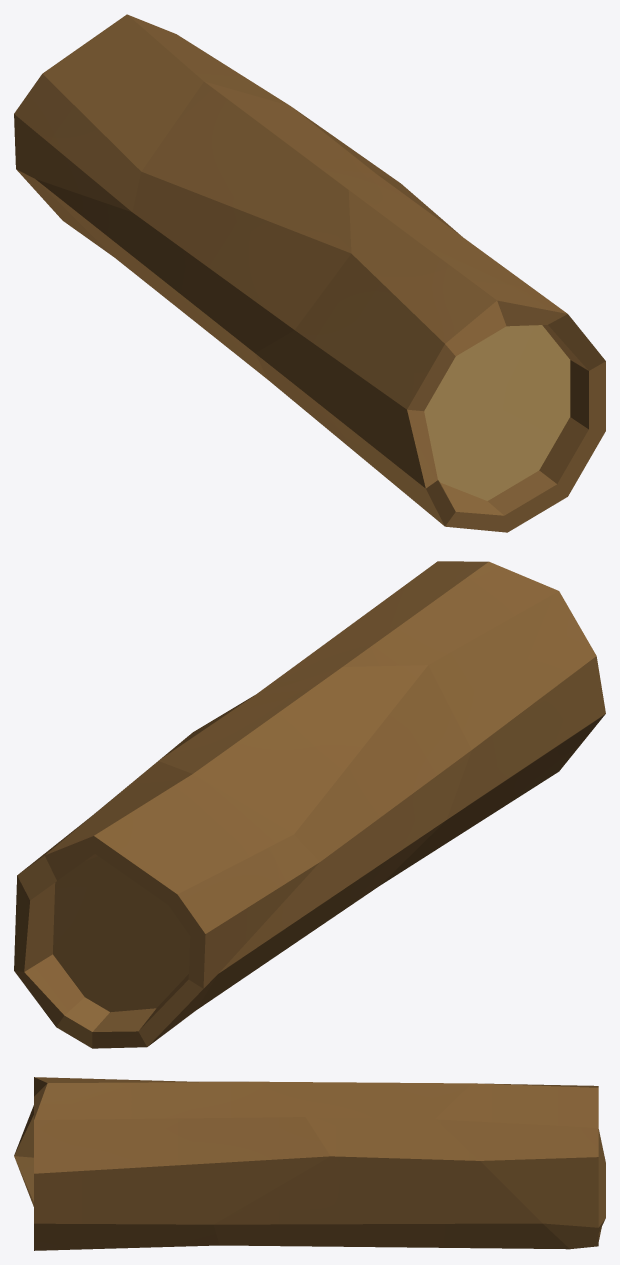
File: log_6.glb
3 renders of one model, top to bottom at view 1: azimuth 30°, elevation 25°; view 2: azimuth 150°, elevation 25°; view 3: azimuth 270°, elevation 25°, orthographic. The views are drawn at different scales.
Visible parts, largest first — view 1: log_6; view 2: log_6; view 3: log_6.
Part boxes in pixels (<box>): log_6: <box>14,14,605,532</box>; log_6: <box>14,561,605,1048</box>; log_6: <box>14,1077,605,1250</box>.
Bounding box in the file's own units: 0.1623 × 0.1753 × 0.5777.
1 material, 1 textured.
